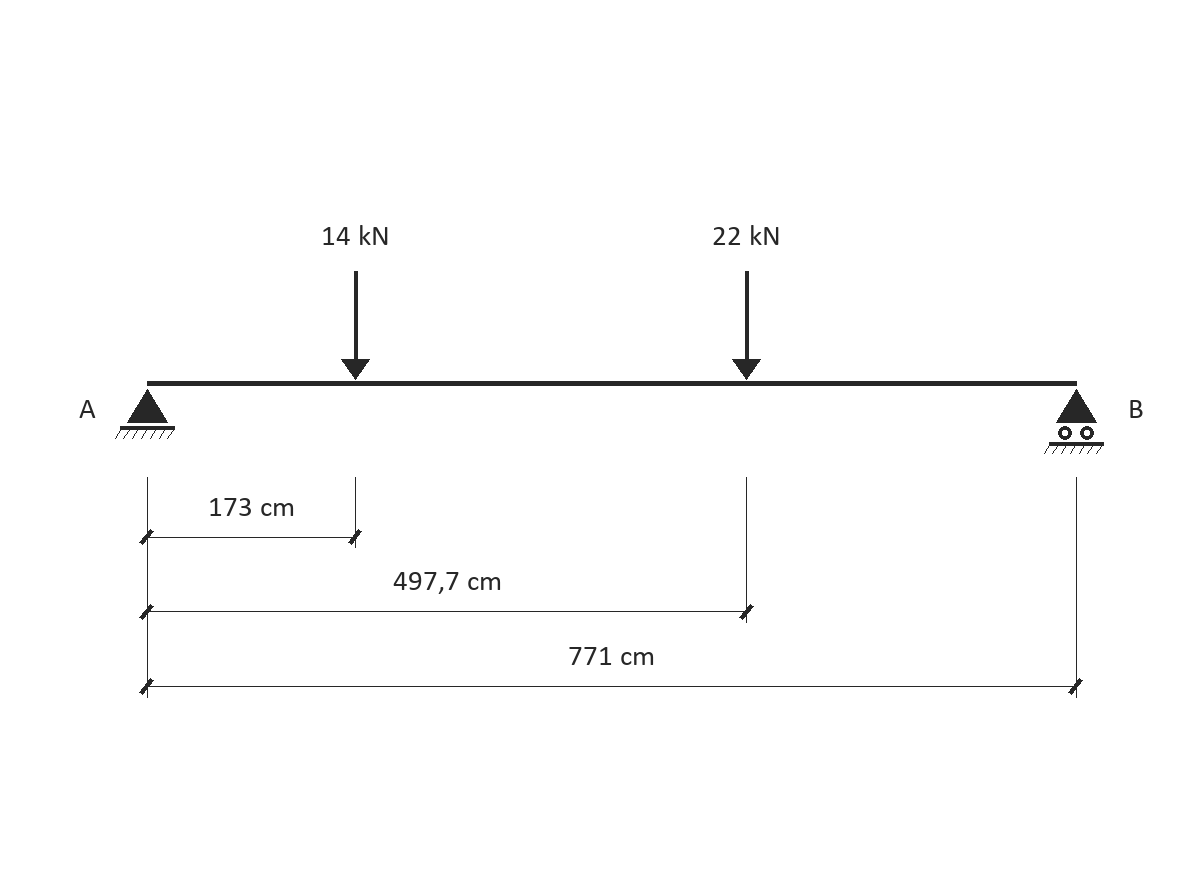pin_support: (115, 389, 175, 439)
point_load: (341, 271, 370, 380), (732, 271, 761, 380)
roller_support: (1044, 389, 1104, 454)
